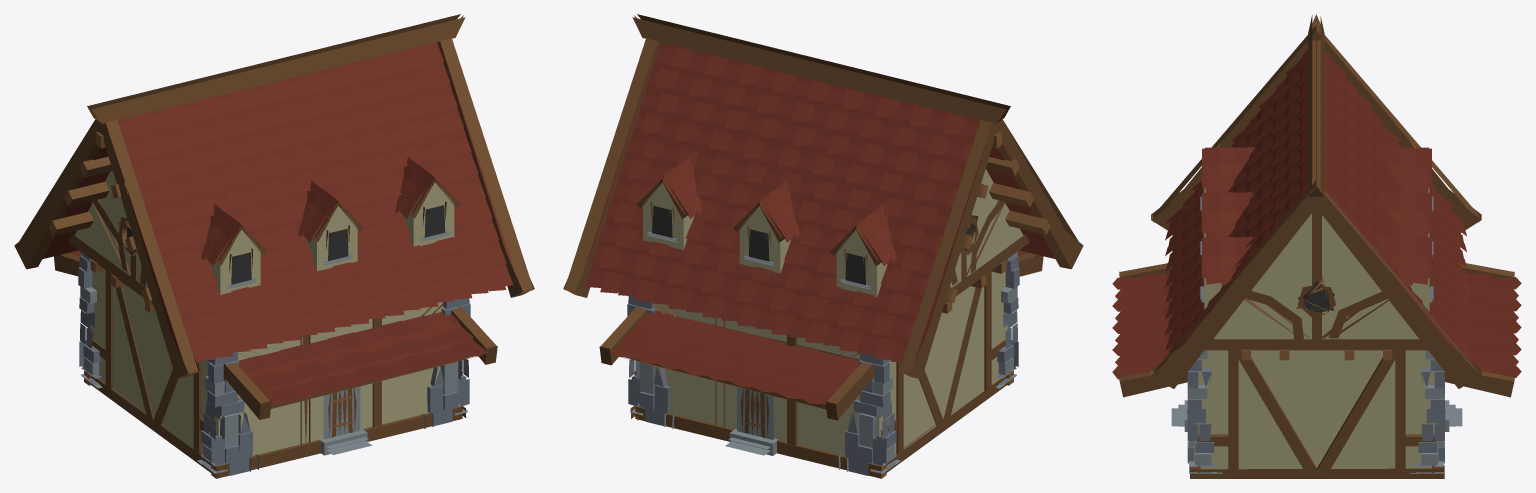
File: bld-chamber.glb
The picture shows the model from 3 angles, left to right: view 1: azimuth 30°, elevation 25°; view 2: azimuth 150°, elevation 25°; view 3: azimuth 270°, elevation 25°; orthographic projection. The views are drawn at different scales.
Visible parts, largest first — view 1: Inn; view 2: Inn; view 3: Inn.
Part boxes in pixels (bbox=[...]): Inn: bbox=[14, 14, 534, 478]; Inn: bbox=[563, 14, 1083, 478]; Inn: bbox=[1112, 14, 1521, 478].
Bounding box in the file's own units: 4.04 × 3.49 × 4.02.
